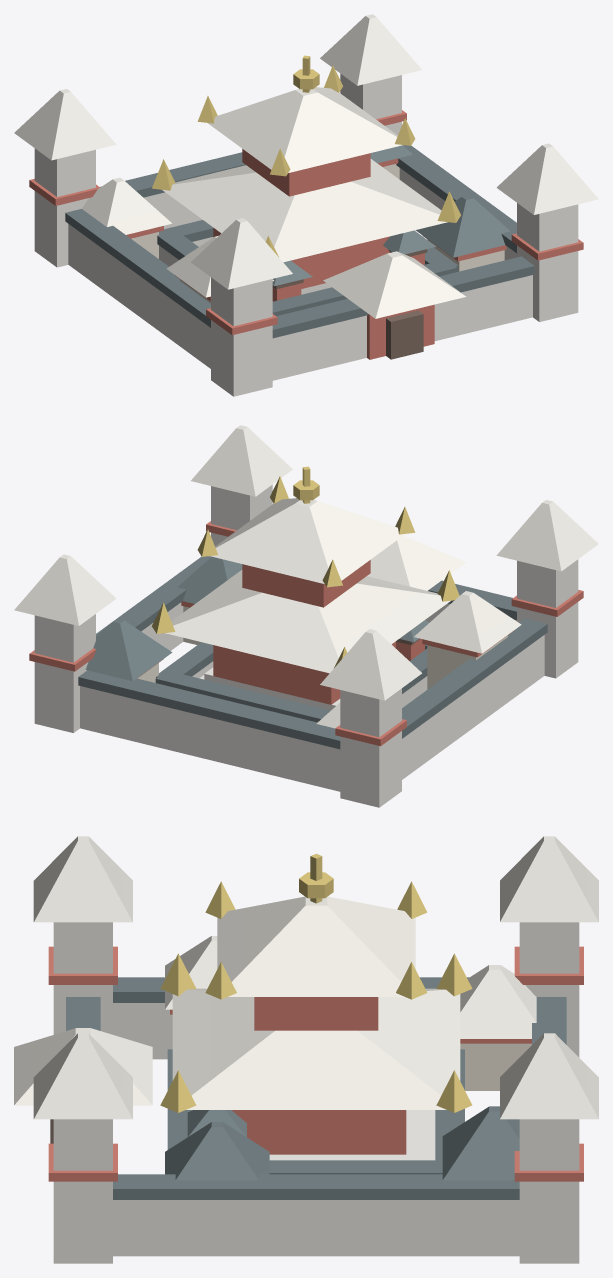
File: capital.glb
3 renders of one model, top to bottom at view 1: azimuth 30°, elevation 25°; view 2: azimuth 150°, elevation 25°; view 3: azimuth 270°, elevation 25°, orthographic. The views are drawn at different scales.
Visible parts, largest first — view 1: east_asian_capital; view 2: east_asian_capital; view 3: east_asian_capital.
Part boxes in pixels (x1=…): east_asian_capital: x1=14, y1=14, x2=598, y2=396; east_asian_capital: x1=14, y1=425, x2=598, y2=807; east_asian_capital: x1=14, y1=836, x2=598, y2=1263.
Bounding box in the file's own units: 0.9661 × 0.5593 × 1.
